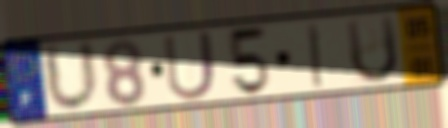5: (223, 25, 272, 98)
8: (100, 37, 149, 109)
I: (305, 21, 325, 90)
U: (39, 38, 102, 115), (160, 28, 219, 104), (342, 12, 401, 87)
